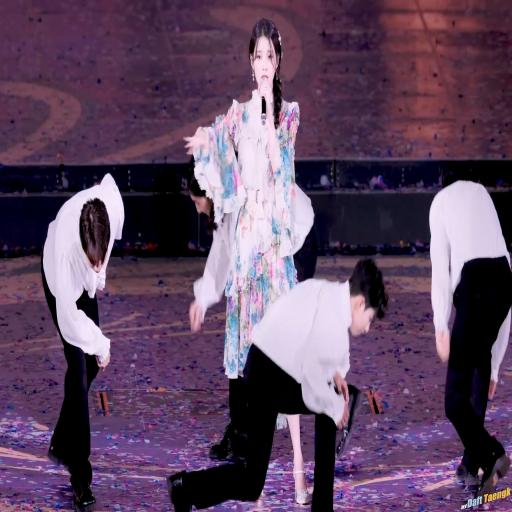IU: (249, 18, 282, 92)
